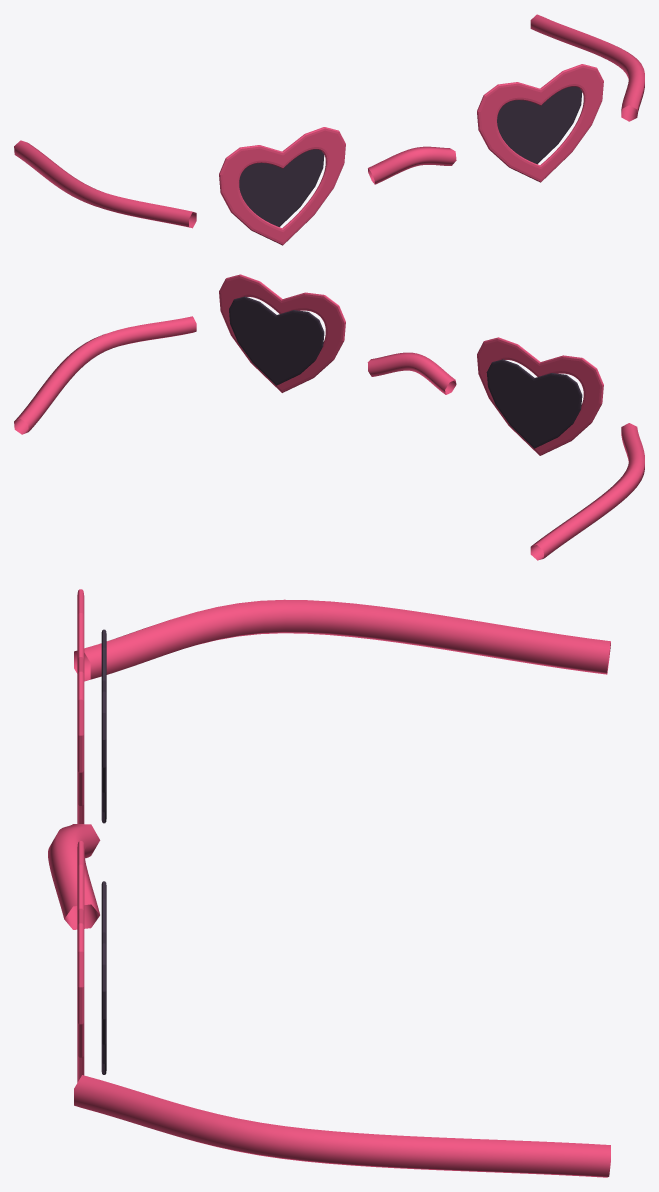
The model's file is glasses_heart.glb.
3 renders of one model, top to bottom at view 1: azimuth 30°, elevation 25°; view 2: azimuth 150°, elevation 25°; view 3: azimuth 270°, elevation 25°, orthographic. The views are drawn at different scales.
Parts seen in each view (by area): view 1: Gafas corazón; view 2: Gafas corazón; view 3: Gafas corazón.
Part boxes in pixels (x1,y1,x2,y2): Gafas corazón: (14, 14, 644, 245); Gafas corazón: (14, 274, 644, 560); Gafas corazón: (48, 589, 610, 1177).
Bounding box in the file's own units: 0.5606 × 0.1041 × 0.2458.
